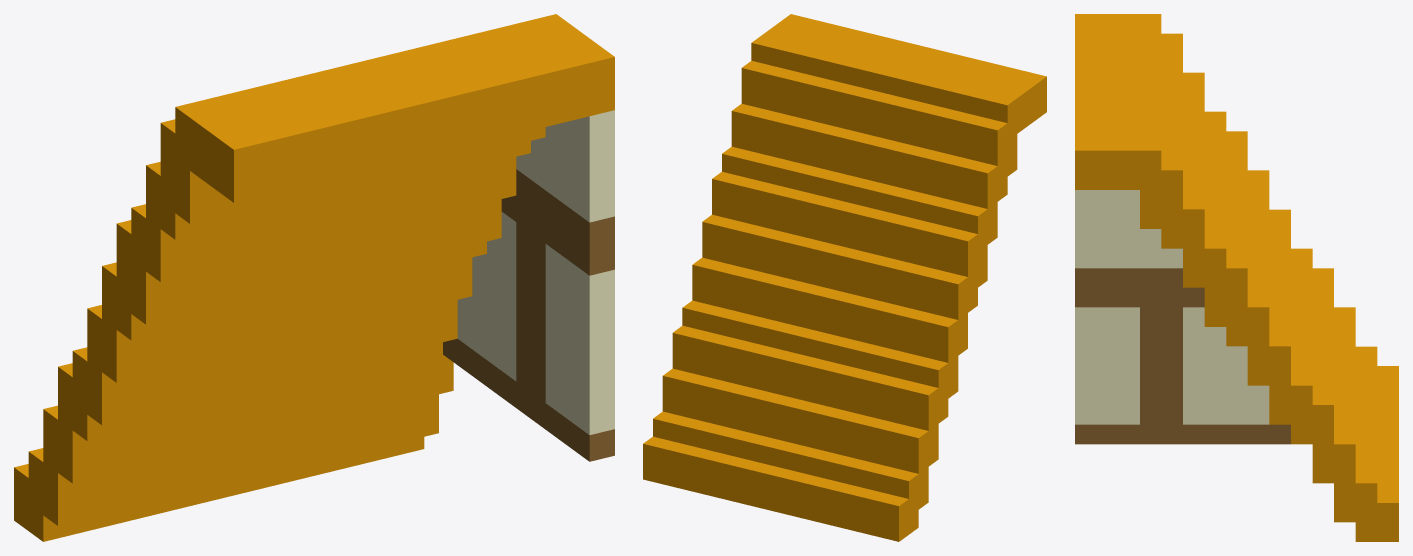
Rendered from thatch roof 1.glb.
The picture shows the model from 3 angles, left to right: view 1: azimuth 30°, elevation 25°; view 2: azimuth 150°, elevation 25°; view 3: azimuth 270°, elevation 25°; orthographic projection. The views are drawn at different scales.
Visible parts, largest first — view 1: pl0; view 2: pl0; view 3: pl0.
Boxes of the visible parts, x1,y1,x2,y2 form: pl0: [14, 14, 614, 541]; pl0: [643, 14, 1046, 541]; pl0: [1075, 14, 1398, 541].
Bounding box in the file's own units: 1.5 × 2 × 1.5.
Materials: 1 (1 with a texture image).
